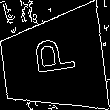P_W: (28, 41, 79, 85)
